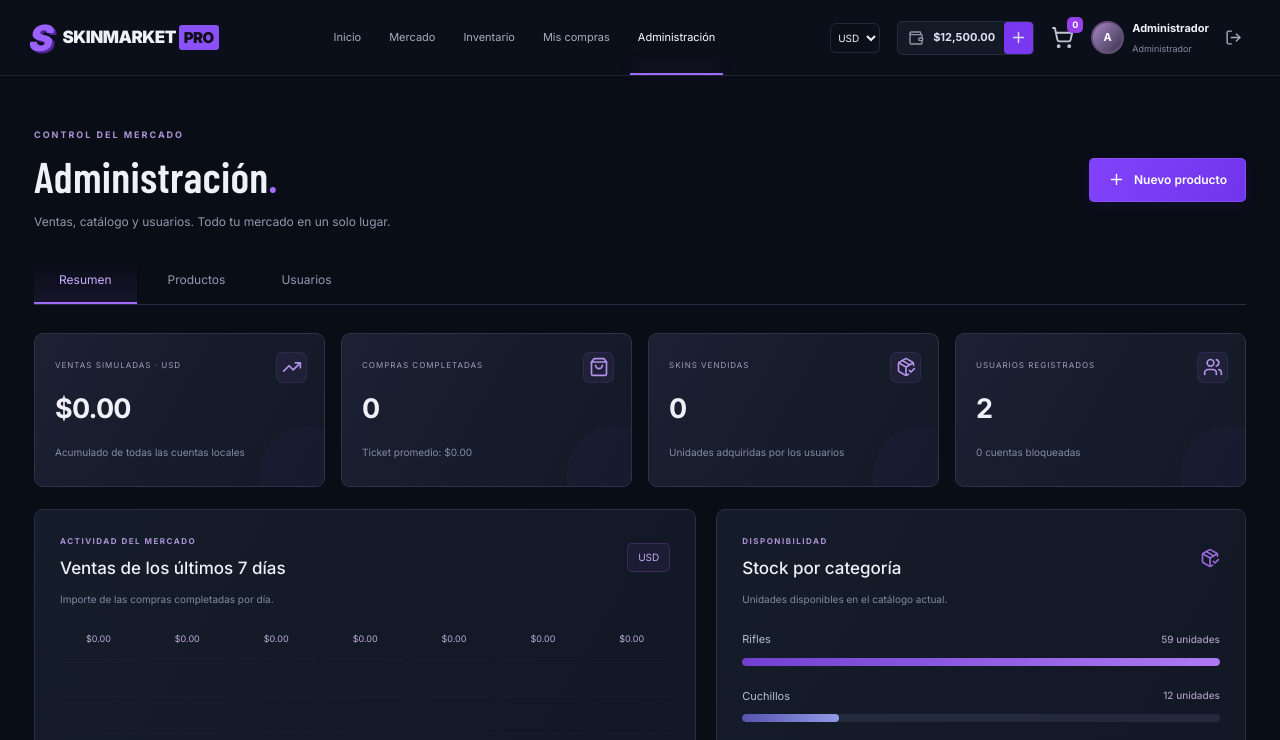
Dashboard y gestión visual de usuarios › presenta los gráficos sin inventar compras y cambia de moneda
The image size is (1280, 740).
Check: the heading "Ventas de los últimos 7 días" is shown, box [60,557,286,581]
Check: the heading "Stock por categoría" is shown, box [742,557,902,581]
Select "CLP" in the dropdown named "Moneda" at (855, 38), box [830,22,880,52]
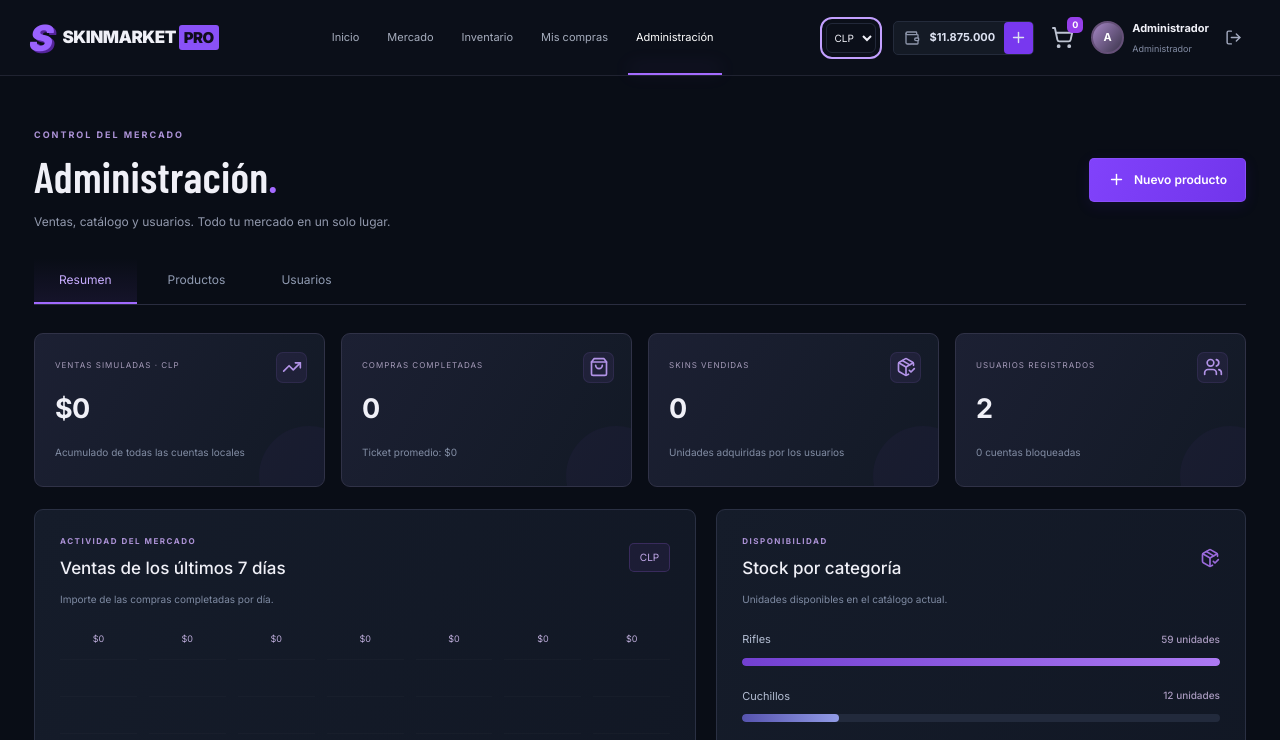
Check: the text "VENTAS SIMULADAS · CLP" is shown, box [55,360,180,370]
Click the button "Productos" at (196, 281), box [143,258,250,304]
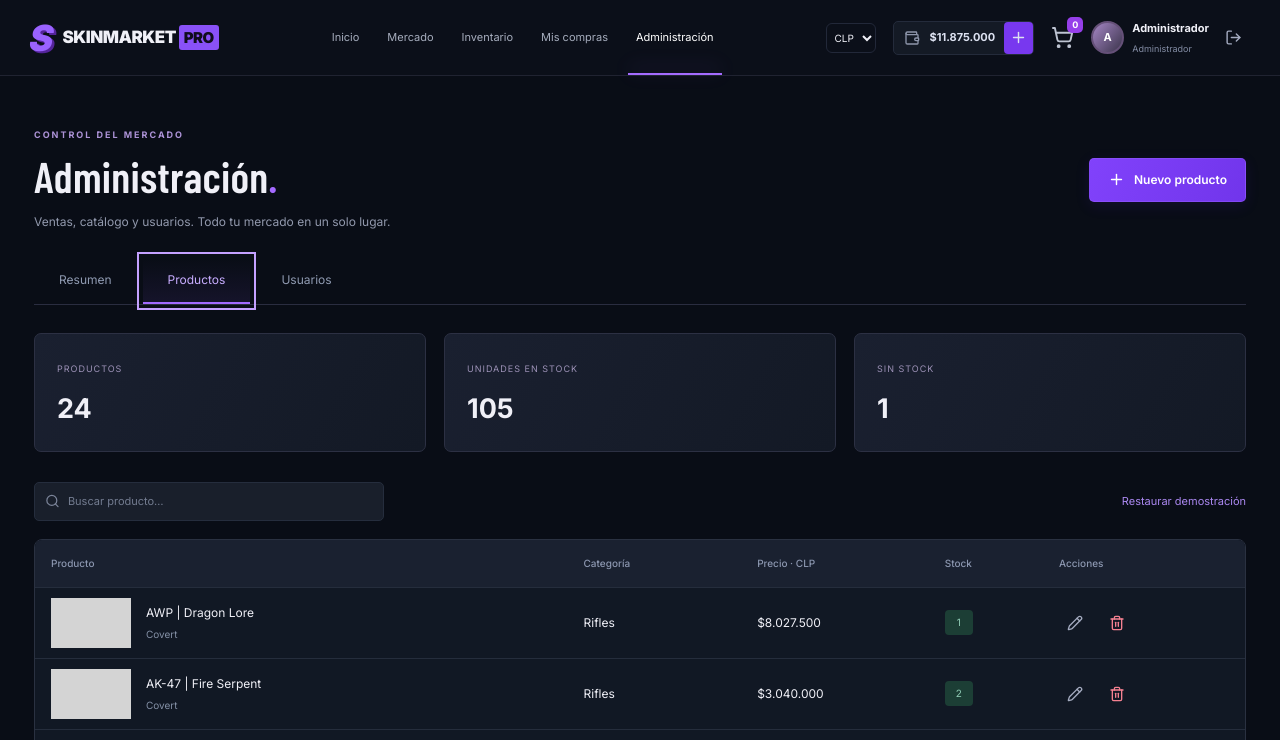
Check: the column heading "Producto" is shown, box [35,540,568,587]
Click the button "Resumen" at (85, 281), box [34,258,137,304]
(page scrolled)
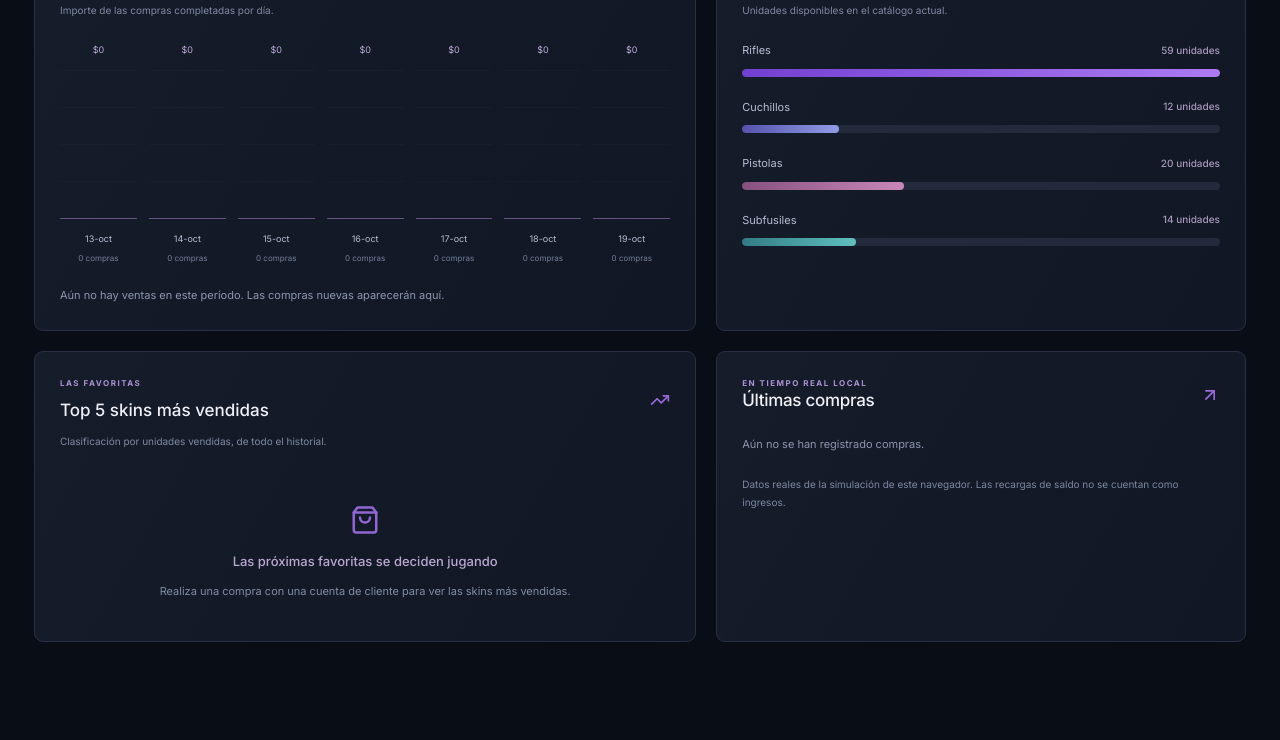
Check: the heading "Últimas compras" is shown, box [742,389,874,413]
